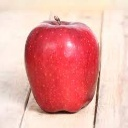apple: (24, 16, 102, 113)
